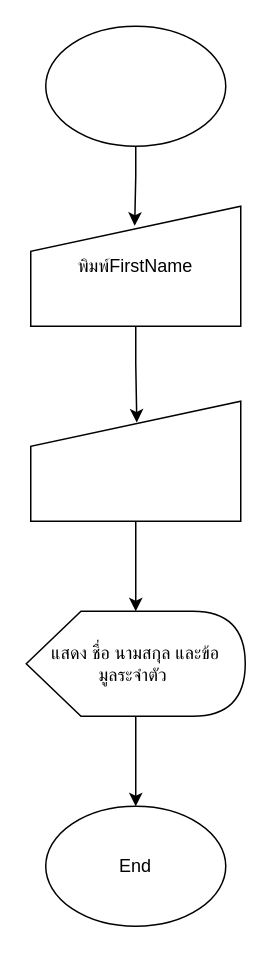
The diagram is 272 pixels wide and 953 high, and some of its shapes have lost their labels. Each missing label, with the centre of its shape:
Start: point (135, 85)
พิมพ์LastName: point (135, 460)
